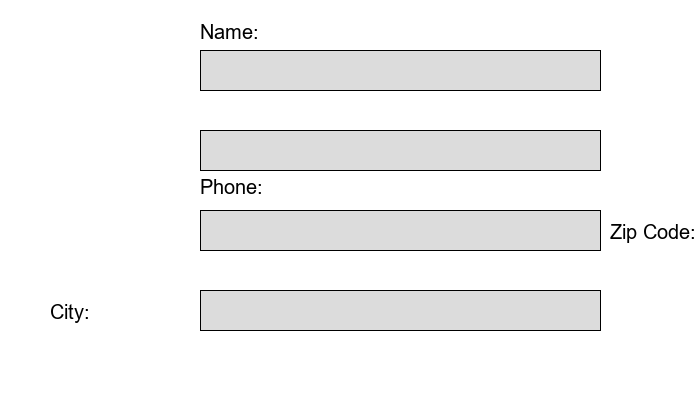Label: (610, 220, 690, 239), (200, 175, 257, 190), (200, 20, 253, 35), (50, 300, 84, 319)
Textbox: (200, 50, 600, 90), (200, 130, 600, 170), (200, 210, 600, 250), (200, 290, 600, 330)
